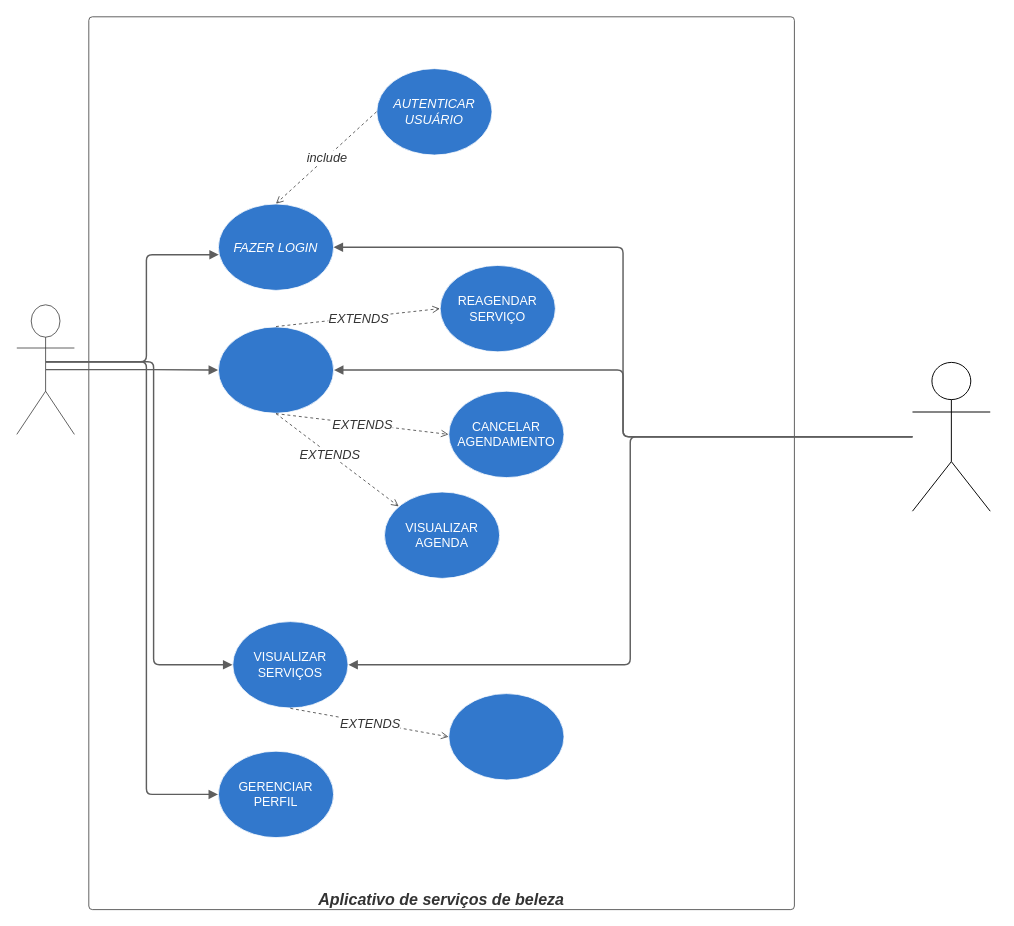
The diagram is 1014 pixels wide and 926 high, and some of its shapes have lost their labels. The shapes that lost their labels are listed below. From the top down, each one's centre as x and y in pixels, then its label:
point 45,369: usuário
point 276,369: AGENDAMENTO DE SERVIÇOS
point 951,436: API DE SERVIÇO
point 506,736: PESQUISAR POR SERVIÇO
